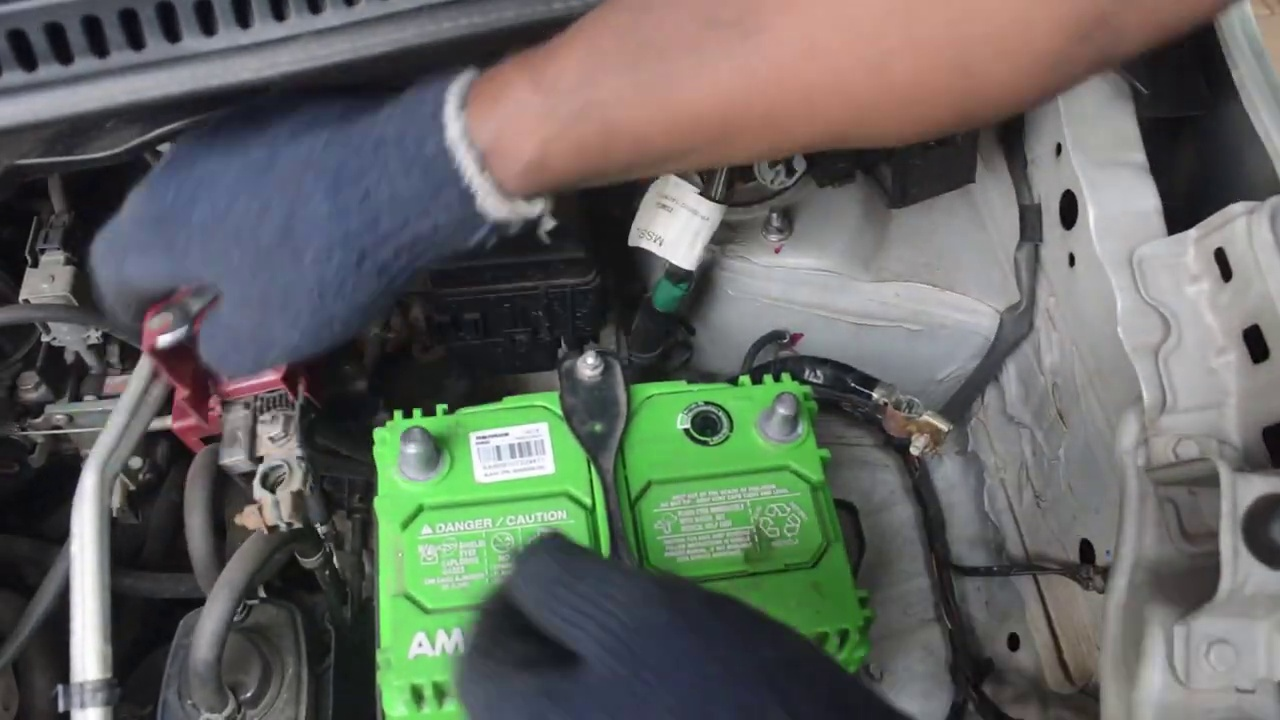battery: (376, 363, 852, 708)
